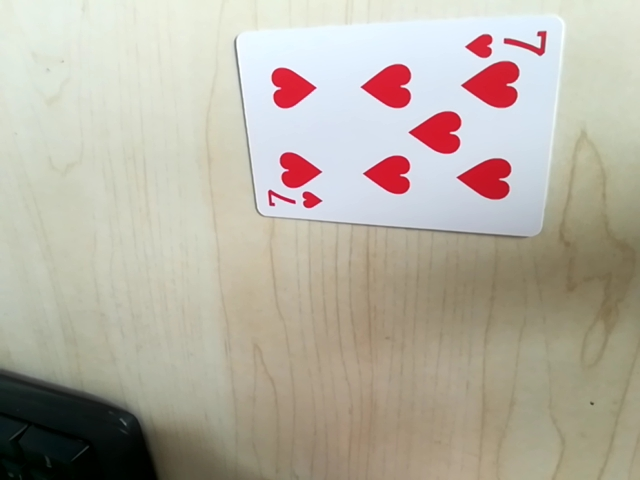hx 7: (463, 20, 549, 59), (260, 188, 328, 218)
